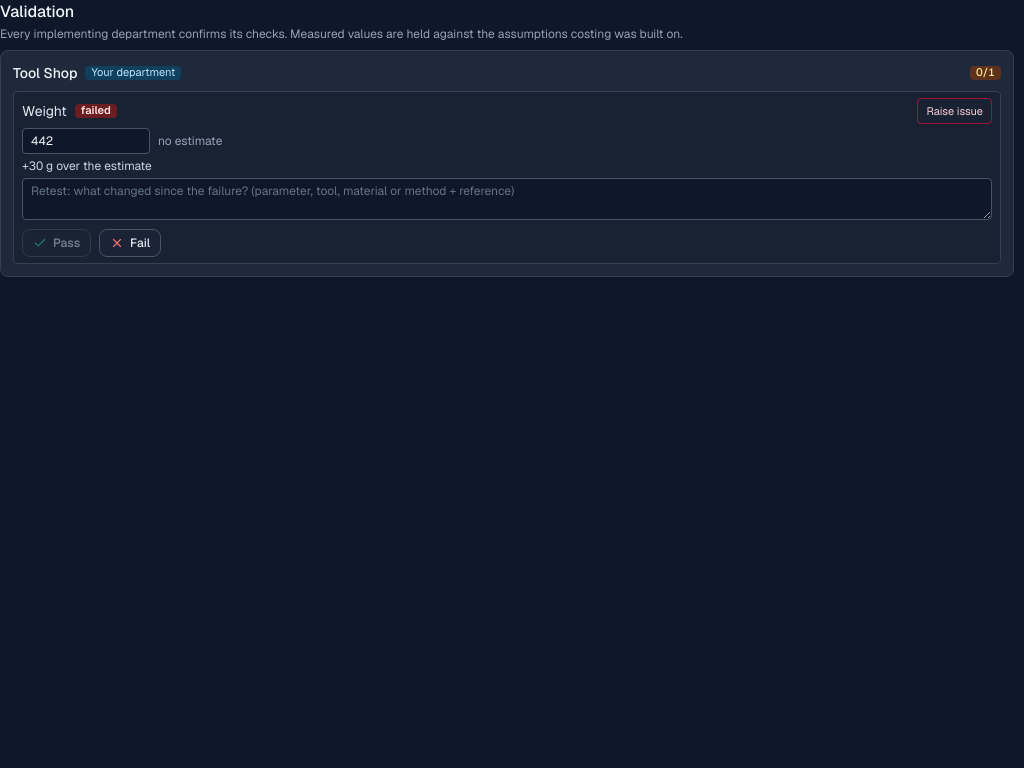
Test case: raise from a failed check › prefills category, owner department and description from the check
Later steps or results of the test are not shown.
Click the button with test id "validation-raise-4-weight": (955,111) x1=917 y1=98 x2=992 y2=124
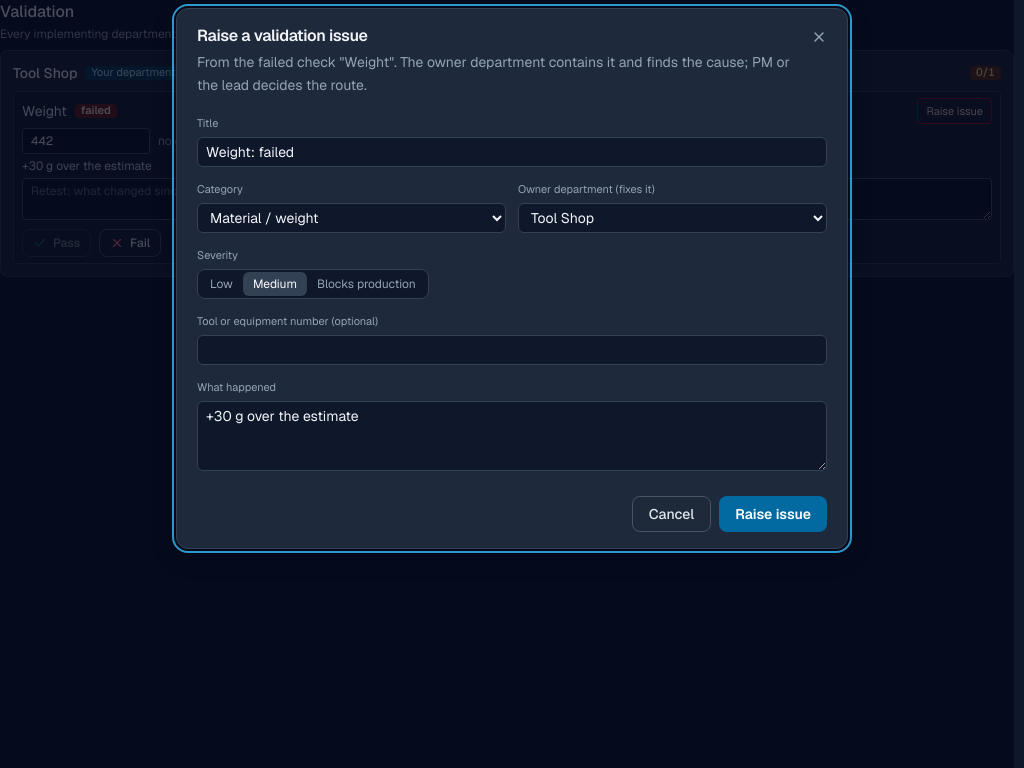
Expected: the field with test id "raise-title" holds "Weight: failed", x1=197 y1=136 x2=827 y2=166
Expected: the dropdown with test id "raise-category" shows "Material / weight", x1=197 y1=202 x2=506 y2=232
Expected: the dropdown with test id "raise-department" shows "Tool Shop", x1=518 y1=202 x2=827 y2=232
